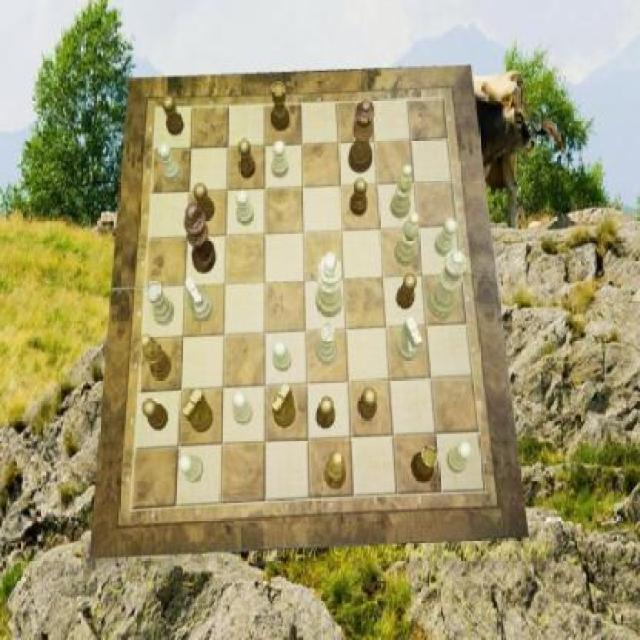bishop: (140, 334, 172, 379), (325, 451, 347, 489)
black-bishop: (185, 201, 217, 274)
black-king: (183, 388, 214, 433), (272, 383, 297, 429)
black-knight: (161, 97, 184, 137), (194, 183, 216, 221), (143, 400, 169, 432), (396, 274, 416, 310), (358, 388, 378, 422), (239, 140, 256, 180), (351, 179, 368, 216), (316, 397, 334, 429)
black-pawn: (348, 99, 374, 173)
black-queen: (411, 446, 438, 485), (271, 81, 290, 132)
black-rook: (394, 214, 418, 268), (391, 164, 414, 218)
white-bishop: (316, 252, 342, 318)
white-king: (186, 278, 214, 322), (397, 317, 421, 359)
white-knight: (158, 143, 182, 183), (434, 218, 457, 257), (448, 440, 472, 474), (232, 391, 253, 425), (272, 142, 290, 179), (179, 454, 203, 481), (236, 190, 254, 226), (272, 340, 292, 372)
white-pawn: (428, 250, 468, 318)
white-queen: (147, 280, 176, 325), (316, 322, 336, 366)
